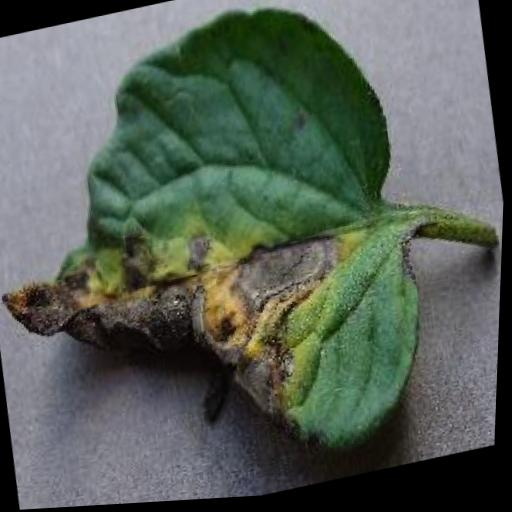Early Blight: (0, 0, 448, 512)
